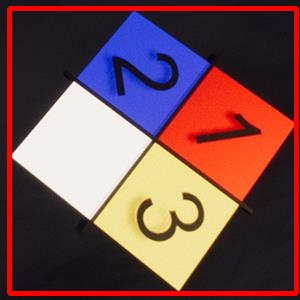nfpa: (9, 8, 296, 293)
